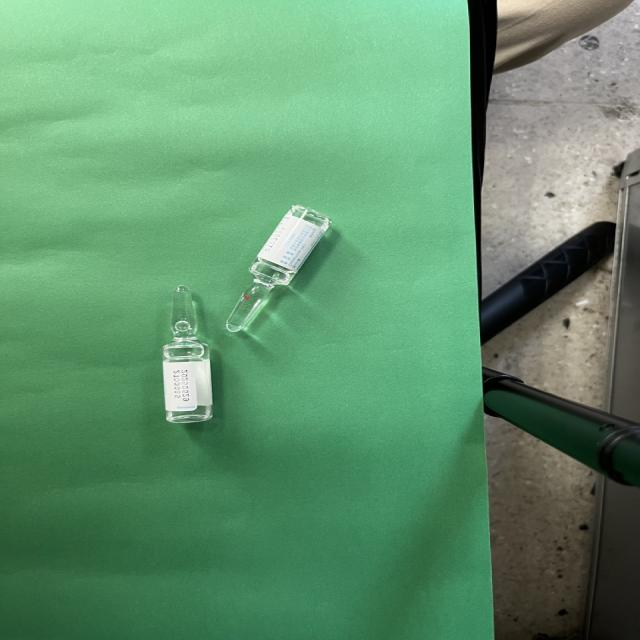Ampoules: (227, 206, 330, 333), (164, 286, 213, 424)
